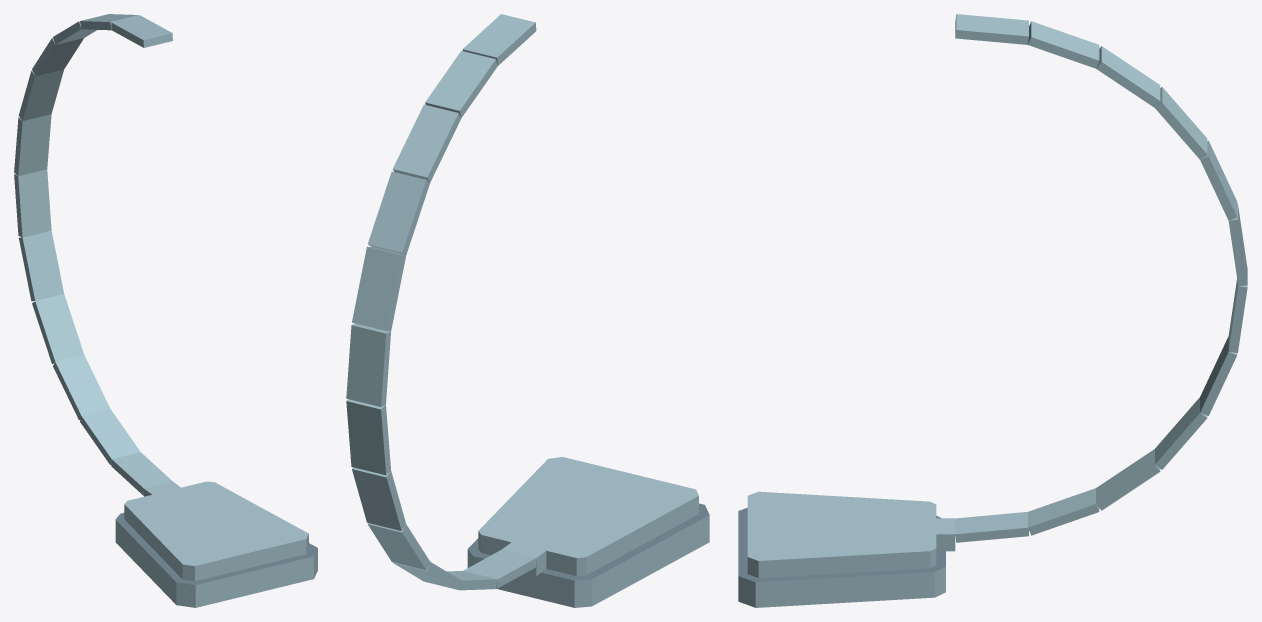
Rendered from lamp-02a.fbx.
The picture shows the model from 3 angles, left to right: view 1: azimuth 30°, elevation 25°; view 2: azimuth 150°, elevation 25°; view 3: azimuth 270°, elevation 25°; orthographic projection. The views are drawn at different scales.
Visible parts, largest first — view 1: lamp-02a; view 2: lamp-02a; view 3: lamp-02a.
Boxes of the visible parts, bbox=[...] form: lamp-02a: bbox=[14, 14, 317, 607]; lamp-02a: bbox=[346, 14, 709, 607]; lamp-02a: bbox=[738, 14, 1247, 607].
Bounding box in the file's own units: 19.5 × 64 × 53.99.
